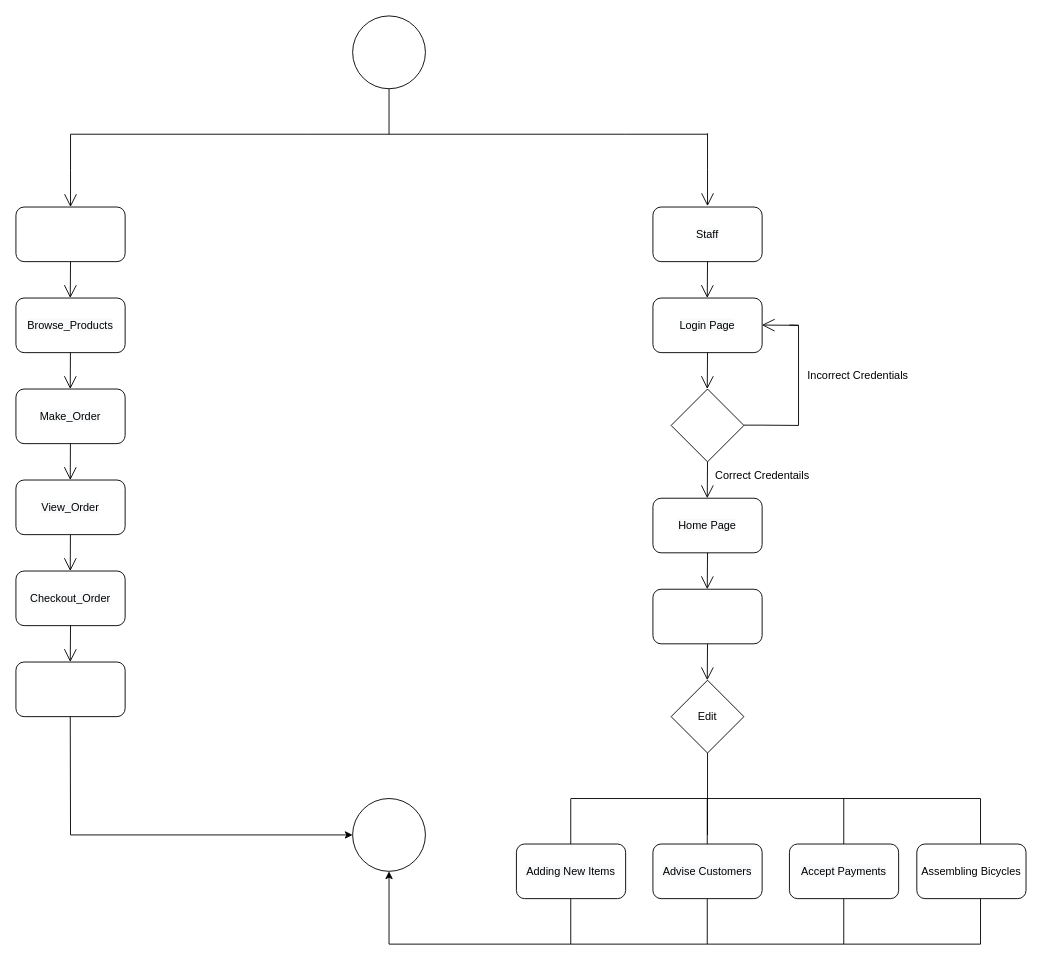
Image size: 1042x967. Some labels were removed from this diagram. Here are the shapes that lost their labels. From the top down, the box of each, then its label:
(352, 15, 425, 89): Start
(15, 206, 125, 262): Customer
(670, 388, 744, 462): Credentials
(652, 588, 762, 644): View Data
(15, 661, 125, 717): Pay_For_Order
(352, 798, 425, 871): End
